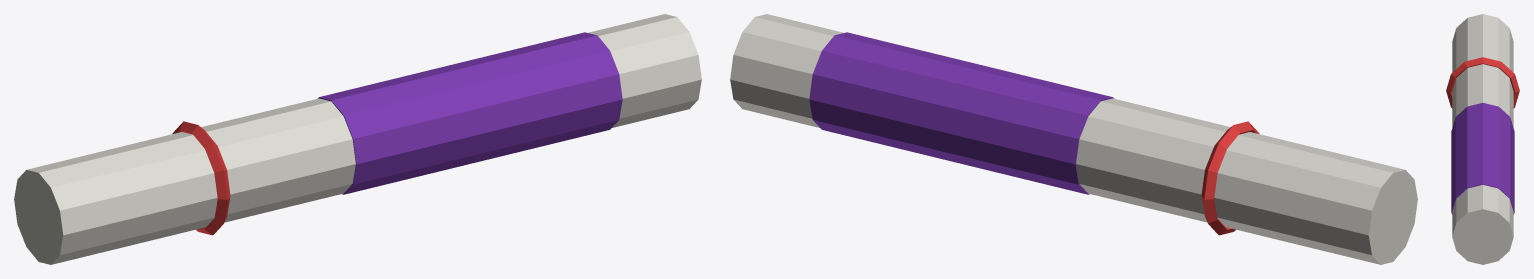
File: concert_poster.glb
3 renders of one model, left to right at view 1: azimuth 30°, elevation 25°; view 2: azimuth 150°, elevation 25°; view 3: azimuth 270°, elevation 25°, orthographic. The views are drawn at different scales.
Parts seen in each view (by area): view 1: roll_poster_paper, print_poster_purple, band_poster_band; view 2: roll_poster_paper, print_poster_purple, band_poster_band; view 3: roll_poster_paper, print_poster_purple, band_poster_band.
Boxes of the visible parts, x1=… form: roll_poster_paper: x1=14, y1=14, x2=701, y2=264; print_poster_purple: x1=318, y1=32, x2=622, y2=194; band_poster_band: x1=172, y1=121, x2=230, y2=235; roll_poster_paper: x1=730, y1=14, x2=1417, y2=264; print_poster_purple: x1=809, y1=32, x2=1113, y2=194; band_poster_band: x1=1201, y1=121, x2=1259, y2=235; roll_poster_paper: x1=1452, y1=14, x2=1513, y2=264; print_poster_purple: x1=1451, y1=103, x2=1514, y2=214; band_poster_band: x1=1446, y1=57, x2=1519, y2=108.
Size of the model in its own units: 0.6 by 0.096 by 0.096.
